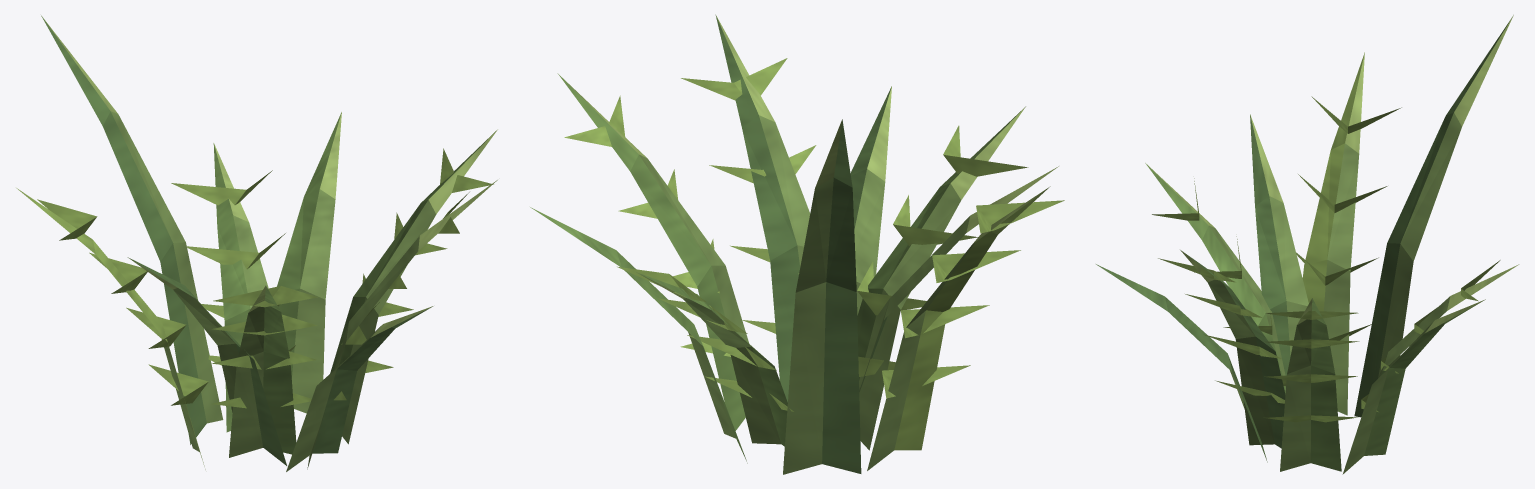
File: fern_03.fbx
3 views of the same model, side by side, from view 1: azimuth 30°, elevation 25°; view 2: azimuth 150°, elevation 25°; view 3: azimuth 270°, elevation 25° (orthographic). The views are drawn at different scales.
Visible parts, largest first — view 1: fern_03; view 2: fern_03; view 3: fern_03.
Boxes of the visible parts, <box> form: fern_03: <box>16,15,497,471</box>; fern_03: <box>530,14,1064,474</box>; fern_03: <box>1096,15,1519,474</box>.
Size of the model in its own units: 119 by 96 by 100.
Materials: 1 (1 with a texture image).
